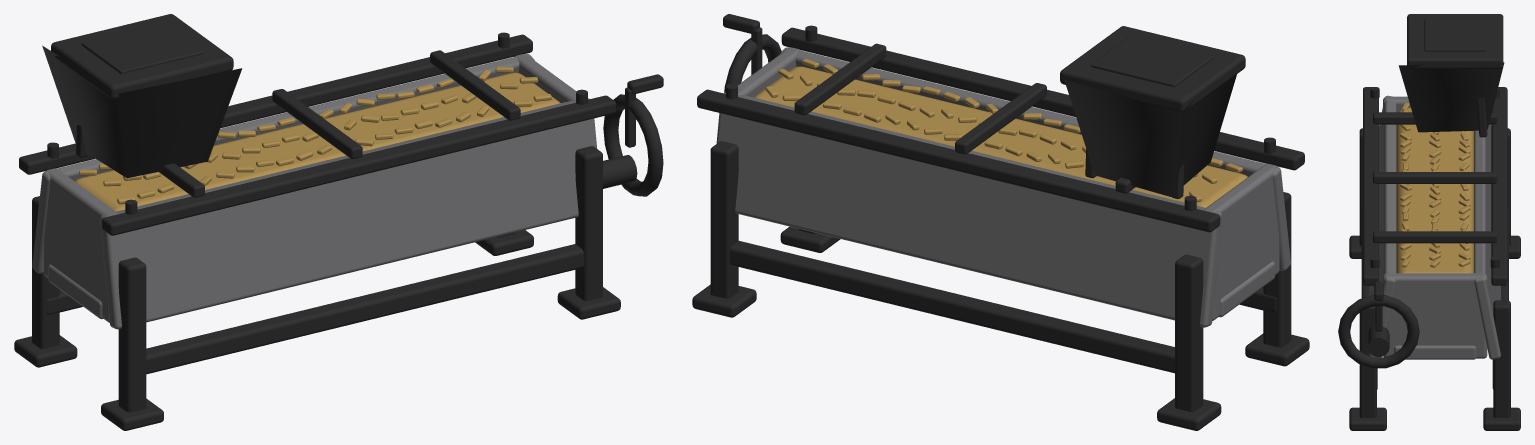
Rendered from feeding-trough.glb.
The picture shows the model from 3 angles, left to right: view 1: azimuth 30°, elevation 25°; view 2: azimuth 150°, elevation 25°; view 3: azimuth 270°, elevation 25°; orthographic projection. The views are drawn at different scales.
Parts seen in each view (by area): view 1: feeding-trough-farm-window, feeding-trough-farm-metal, feeding-trough-farm-thatch; view 2: feeding-trough-farm-window, feeding-trough-farm-metal, feeding-trough-farm-thatch; view 3: feeding-trough-farm-window, feeding-trough-farm-metal, feeding-trough-farm-thatch.
Boxes of the visible parts, x1,y1,x2,y2 form: feeding-trough-farm-window: [14, 14, 663, 430]; feeding-trough-farm-metal: [32, 54, 597, 329]; feeding-trough-farm-thatch: [75, 66, 560, 211]; feeding-trough-farm-window: [692, 14, 1309, 430]; feeding-trough-farm-metal: [716, 47, 1290, 327]; feeding-trough-farm-thatch: [753, 58, 1247, 207]; feeding-trough-farm-window: [1338, 14, 1520, 430]; feeding-trough-farm-metal: [1369, 95, 1500, 359]; feeding-trough-farm-thatch: [1396, 103, 1473, 273].
Bounding box in the file's own units: 3.73 × 2 × 1.37.
